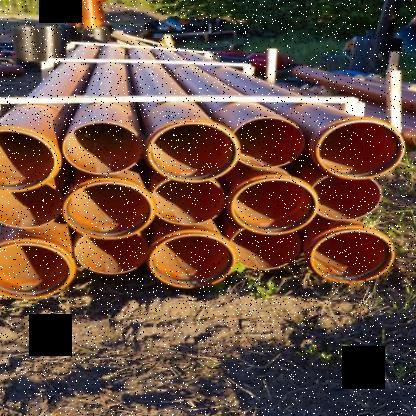pipe: (148, 122, 239, 183), (315, 119, 404, 180), (62, 181, 154, 240), (231, 178, 319, 235), (149, 234, 237, 288), (311, 229, 393, 284), (0, 241, 73, 299), (63, 123, 142, 174), (0, 128, 58, 192), (233, 118, 305, 169), (151, 181, 225, 225), (74, 235, 149, 276), (231, 228, 300, 271), (313, 176, 380, 220), (0, 186, 63, 230)
